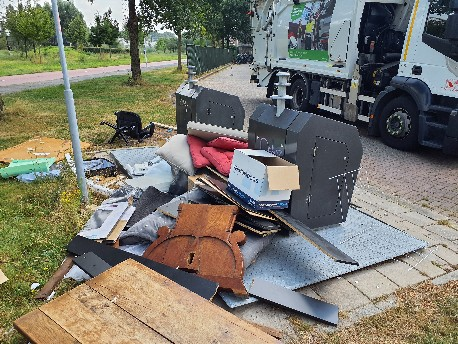Container: (255, 104, 354, 207), (178, 80, 239, 123)
Papier: (233, 142, 283, 199)
Rest: (71, 270, 293, 344), (104, 190, 244, 281), (121, 139, 214, 203), (273, 212, 348, 271), (6, 137, 79, 188), (202, 124, 244, 165), (118, 109, 157, 142)
Voertuig: (250, 0, 458, 120)
